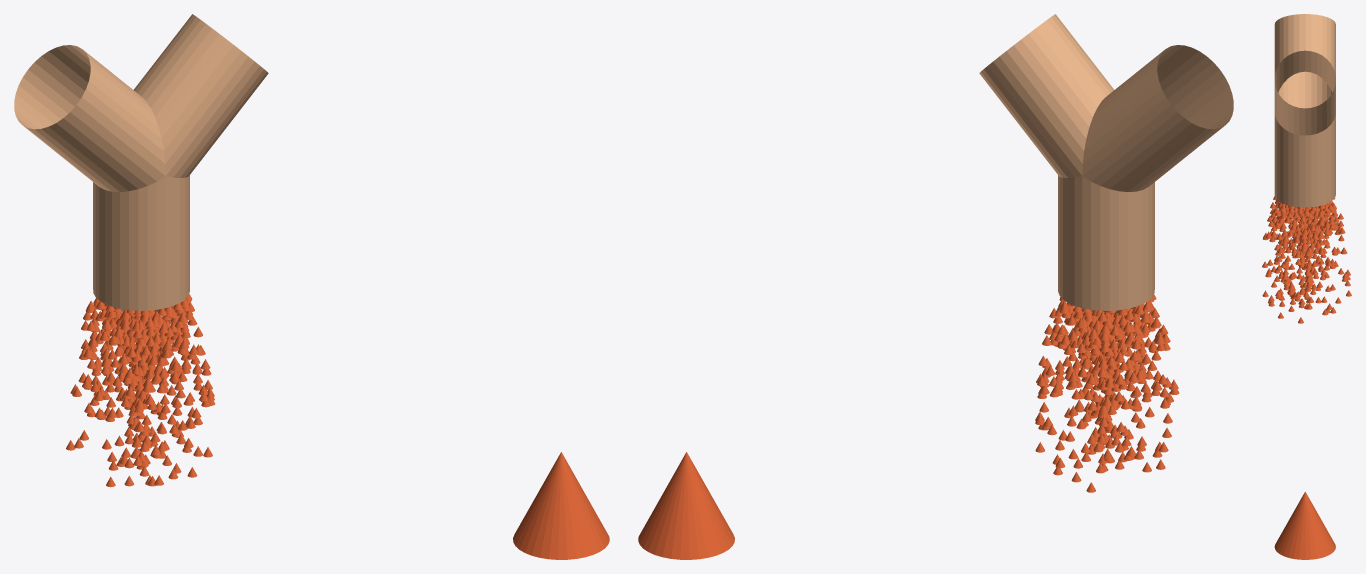
File: beer3.gltf
3 views of the same model, side by side, from view 1: azimuth 30°, elevation 25°; view 2: azimuth 150°, elevation 25°; view 3: azimuth 270°, elevation 25° (orthographic). The views are drawn at different scales.
Parts seen in each view (by area): view 1: Wye Joint, Cone; view 2: Wye Joint, Cone; view 3: Wye Joint, Cone.
Boxes of the visible parts, <box> form: Wye Joint: <box>14,14,268,310</box>; Cone: <box>513,452,609,559</box>; Wye Joint: <box>979,14,1233,310</box>; Cone: <box>638,452,734,559</box>; Wye Joint: <box>1274,14,1335,207</box>; Cone: <box>1274,491,1335,559</box>.
Bounding box in the file's own units: 13.83 × 13.83 × 2.93.
